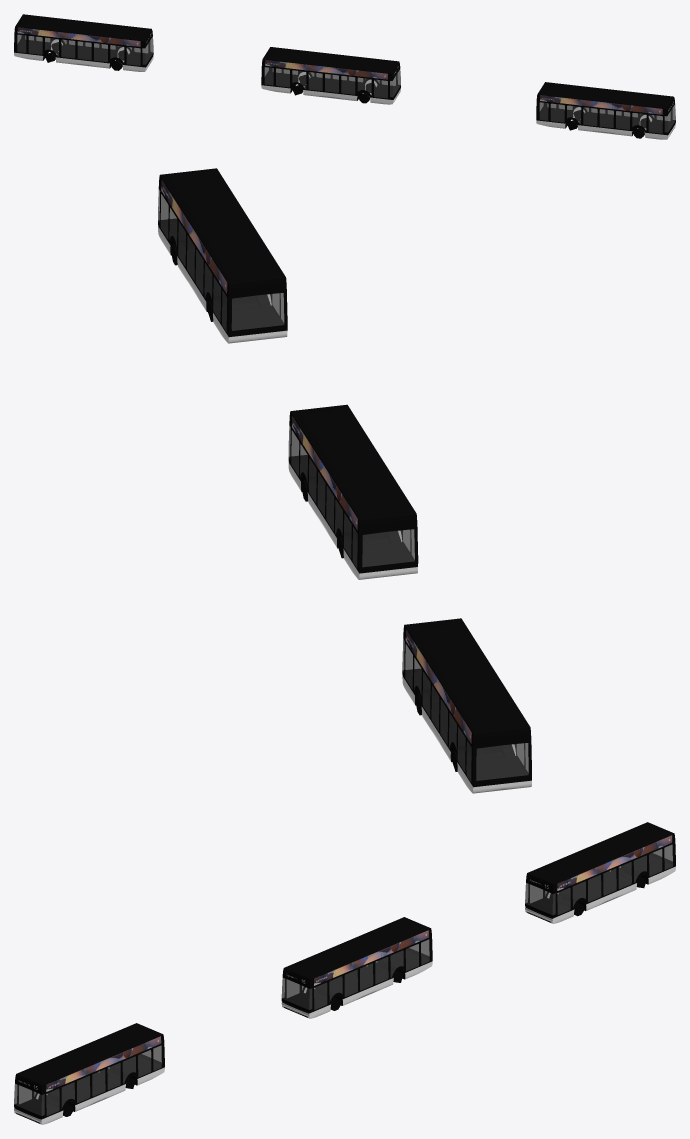
Rendered from BUS VEHICLES BUS STOP.fbx.
3 renders of one model, top to bottom at view 1: azimuth 30°, elevation 25°; view 2: azimuth 150°, elevation 25°; view 3: azimuth 270°, elevation 25°, orthographic. The views are drawn at different scales.
Visible parts, largest first — view 1: solid, glass, side_banner, bus; view 2: solid, glass, bus, side_banner; view 3: solid, glass, side_banner, bus.
Part boxes in pixels (x1,y1,x2,y2): solid: (14, 14, 675, 138); glass: (17, 34, 675, 133); side_banner: (17, 27, 662, 114); bus: (14, 33, 675, 139); solid: (158, 168, 531, 787); glass: (158, 189, 528, 781); bus: (158, 226, 531, 793); side_banner: (161, 179, 471, 743); solid: (14, 822, 675, 1123); glass: (14, 844, 672, 1115); side_banner: (46, 835, 672, 1091); bus: (14, 866, 675, 1124).
Bounding box in the file's own units: 42.22 × 3.16 × 44.62.
4 materials, 1 textured.
